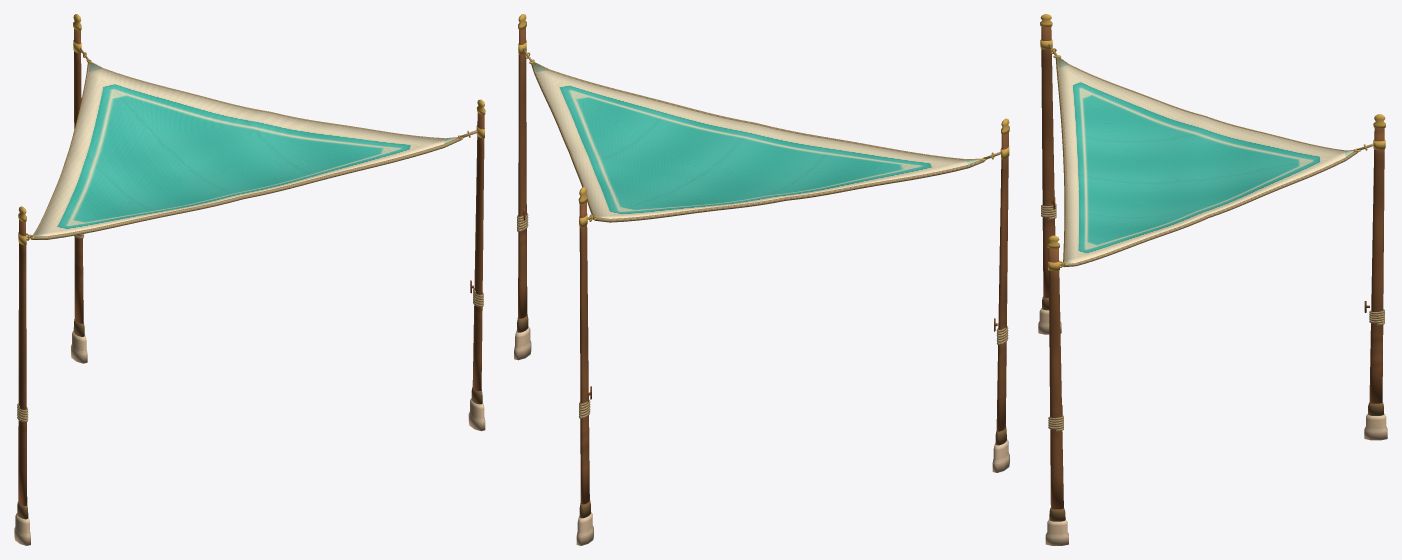
File: market-canopy.glb
The picture shows the model from 3 angles, left to right: view 1: azimuth 30°, elevation 25°; view 2: azimuth 150°, elevation 25°; view 3: azimuth 270°, elevation 25°; orthographic projection. The views are drawn at different scales.
Parts seen in each view (by area): view 1: Market canopy sail and timber masts; view 2: Market canopy sail and timber masts; view 3: Market canopy sail and timber masts.
Boxes of the visible parts, bbox=[...] form: Market canopy sail and timber masts: bbox=[14, 14, 485, 545]; Market canopy sail and timber masts: bbox=[514, 14, 1009, 545]; Market canopy sail and timber masts: bbox=[1038, 14, 1387, 545].
Size of the model in its own units: 4.44 by 3.1 by 3.03.
Materials: 5 (3 with a texture image).
